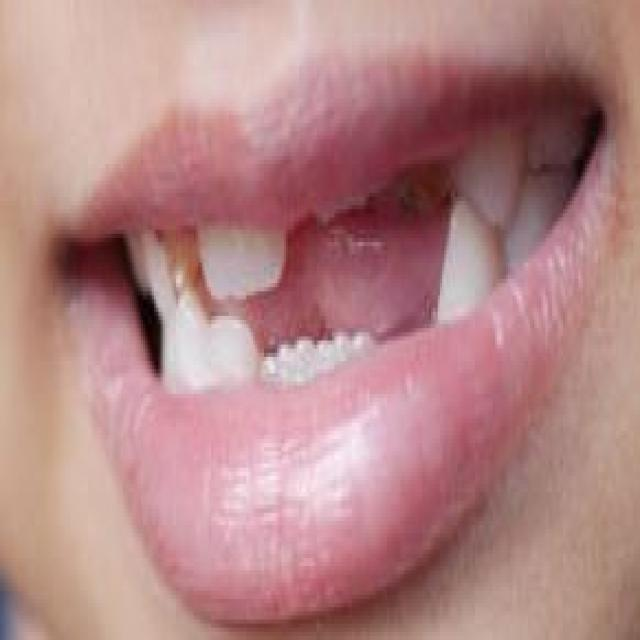caries: (377, 135, 463, 233), (153, 220, 207, 310)
